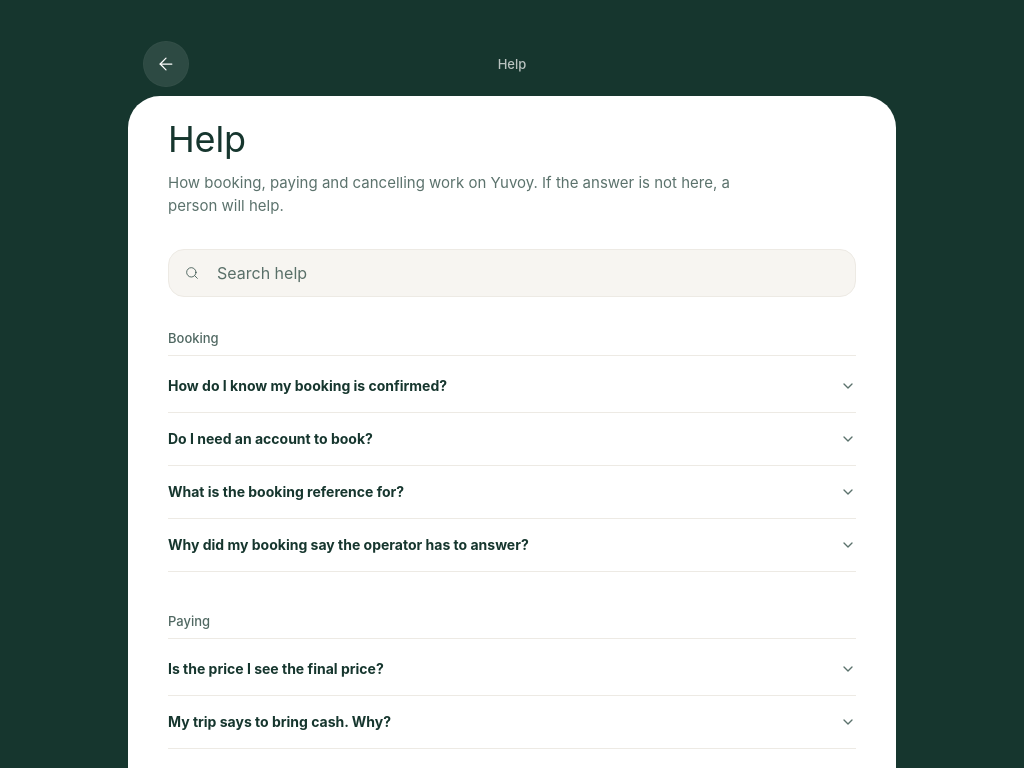
search › offers a person when nothing matches, rather than a dead end
The width and height of the screenshot is (1024, 768).
Type "zzzznotathing" into the search field.
click(512, 273); type("zzzznotathing")  # box [168, 249, 856, 297]
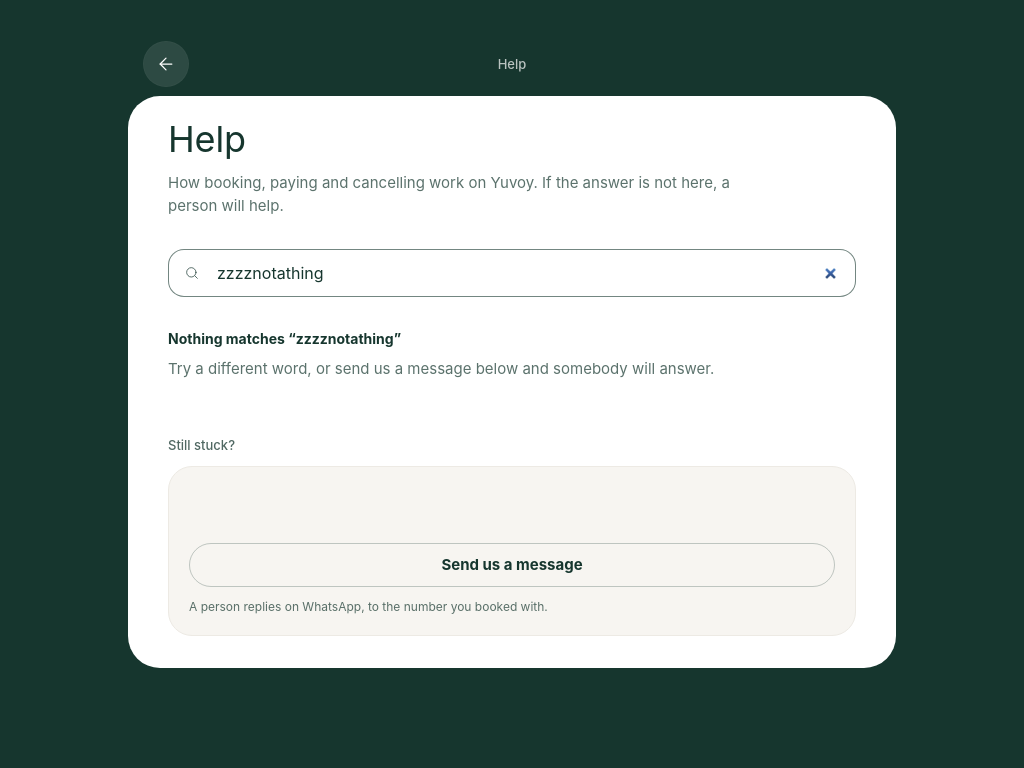
Expected: the button "Send us a message" is shown, [189, 543, 835, 587]
Now the text "Nothing matches “zzzznotathing”" is shown, box [168, 330, 401, 347]
